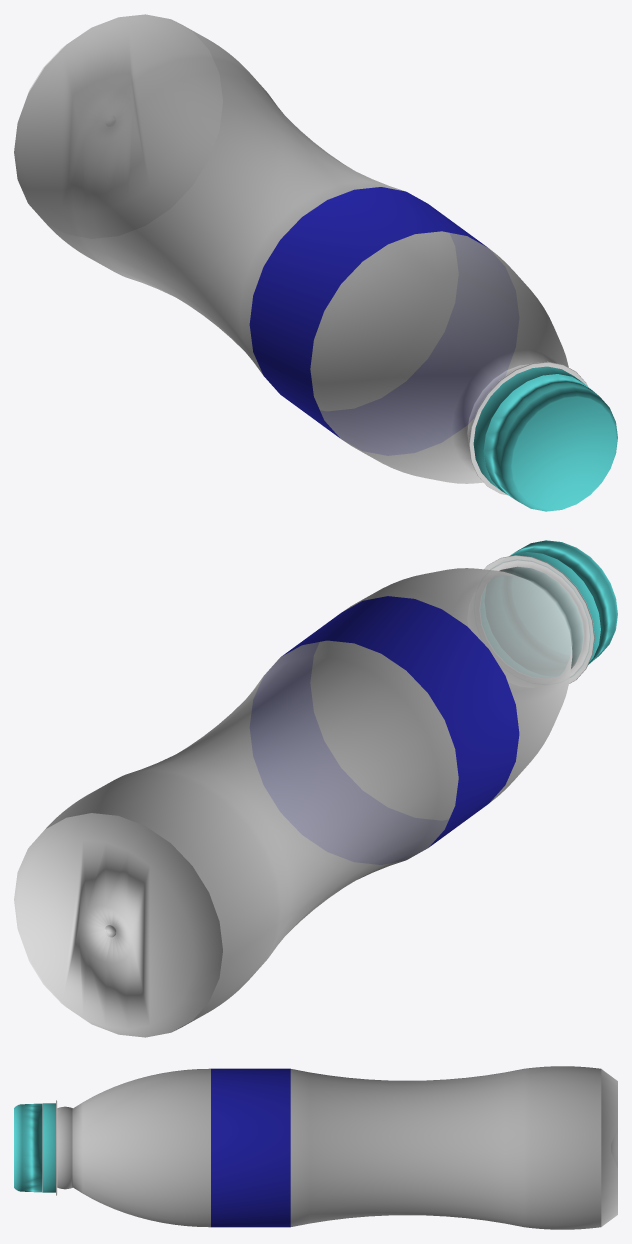
The model's file is model_scale.obj.
The picture shows the model from 3 angles, top to bottom: view 1: azimuth 30°, elevation 25°; view 2: azimuth 150°, elevation 25°; view 3: azimuth 270°, elevation 25°; orthographic projection. The views are drawn at different scales.
Visible parts, largest first — view 1: mesh1_mesh1-geometry, mesh2_mesh2-geometry; view 2: mesh1_mesh1-geometry, mesh2_mesh2-geometry; view 3: mesh1_mesh1-geometry, mesh2_mesh2-geometry.
Boxes of the visible parts, x1,y1,x2,y2 form: mesh1_mesh1-geometry: (14,14,587,495); mesh2_mesh2-geometry: (483,374,617,511); mesh1_mesh1-geometry: (14,552,600,1037); mesh2_mesh2-geometry: (485,540,617,675); mesh1_mesh1-geometry: (43,1066,617,1229); mesh2_mesh2-geometry: (14,1103,42,1192).
Size of the model in its own units: 0.0374 by 0.0374 by 0.1378.
